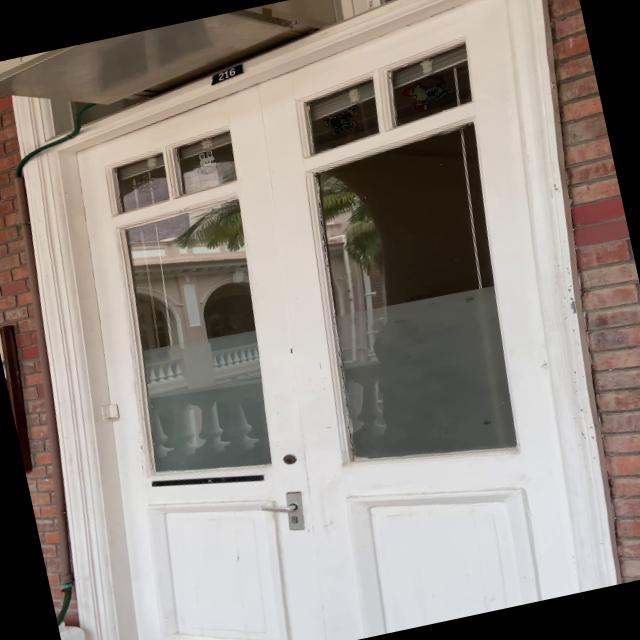room216: (206, 62, 248, 88)
